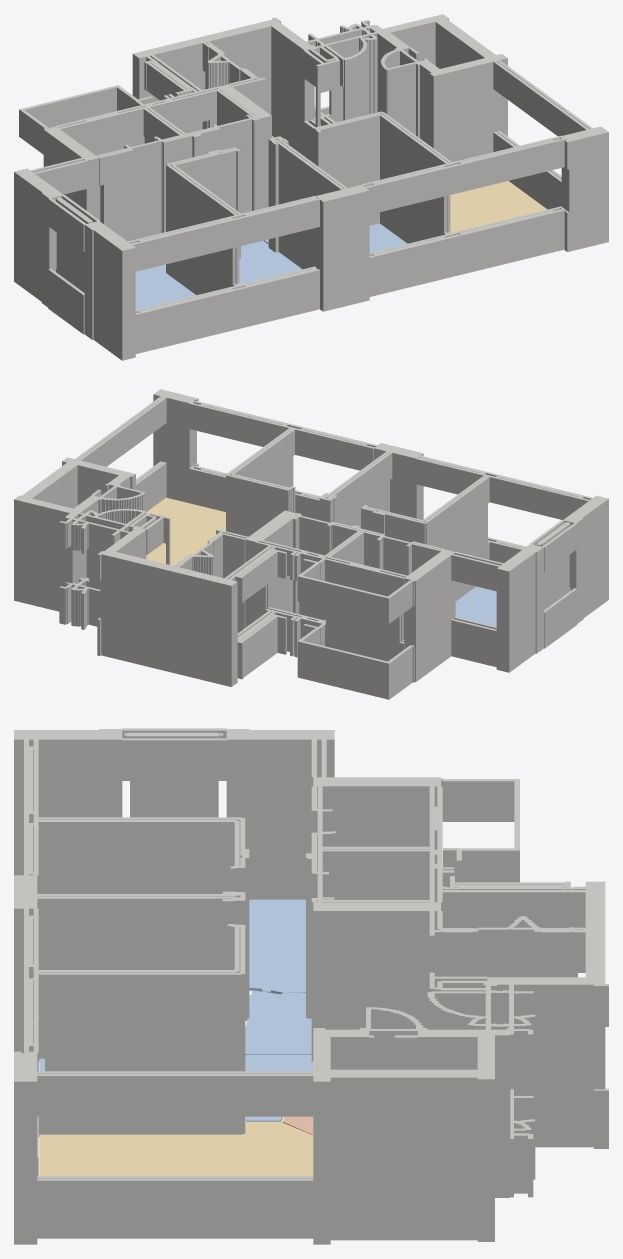
3 views of the same model, one above another, from view 1: azimuth 30°, elevation 25°; view 2: azimuth 150°, elevation 25°; view 3: azimuth 270°, elevation 25° (orthographic). The views are drawn at different scales.
Parts seen in each view (by area): view 1: walls, room:living:0, room:bedroom:3, room:bedroom:2, room:bedroom:1; view 2: walls, room:living:0, room:bedroom:3; view 3: walls, room:living:0, room:bedroom:3, room:bedroom:2, room:bedroom:1.
Part boxes in pixels (left/top/right/bottom): walls: left=14, top=14, right=608, bottom=360; room:living:0: left=450, top=181, right=547, bottom=232; room:bedroom:3: left=135, top=264, right=195, bottom=309; room:bedroom:2: left=239, top=240, right=302, bottom=284; room:bedroom:1: left=264, top=223, right=407, bottom=252; walls: left=14, top=389, right=608, bottom=699; room:living:0: left=146, top=497, right=225, bottom=565; room:bedroom:3: left=455, top=586, right=496, bottom=626; walls: left=14, top=728, right=608, bottom=1244; room:living:0: left=39, top=1121, right=313, bottom=1175; room:bedroom:3: left=249, top=899, right=305, bottom=994; room:bedroom:2: left=245, top=990, right=311, bottom=1055; room:bedroom:1: left=39, top=1054, right=313, bottom=1121.
Size of the model in its own units: 13.03 by 2.8 by 9.28.
